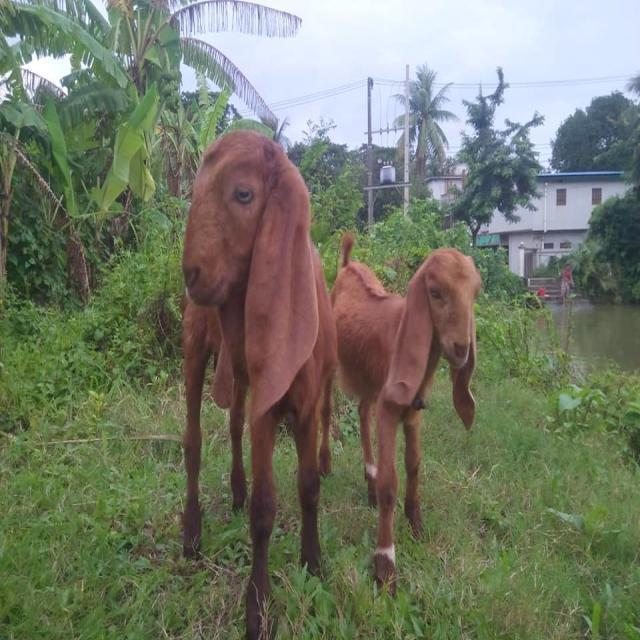Goat: (180, 128, 339, 638), (329, 230, 483, 599)
